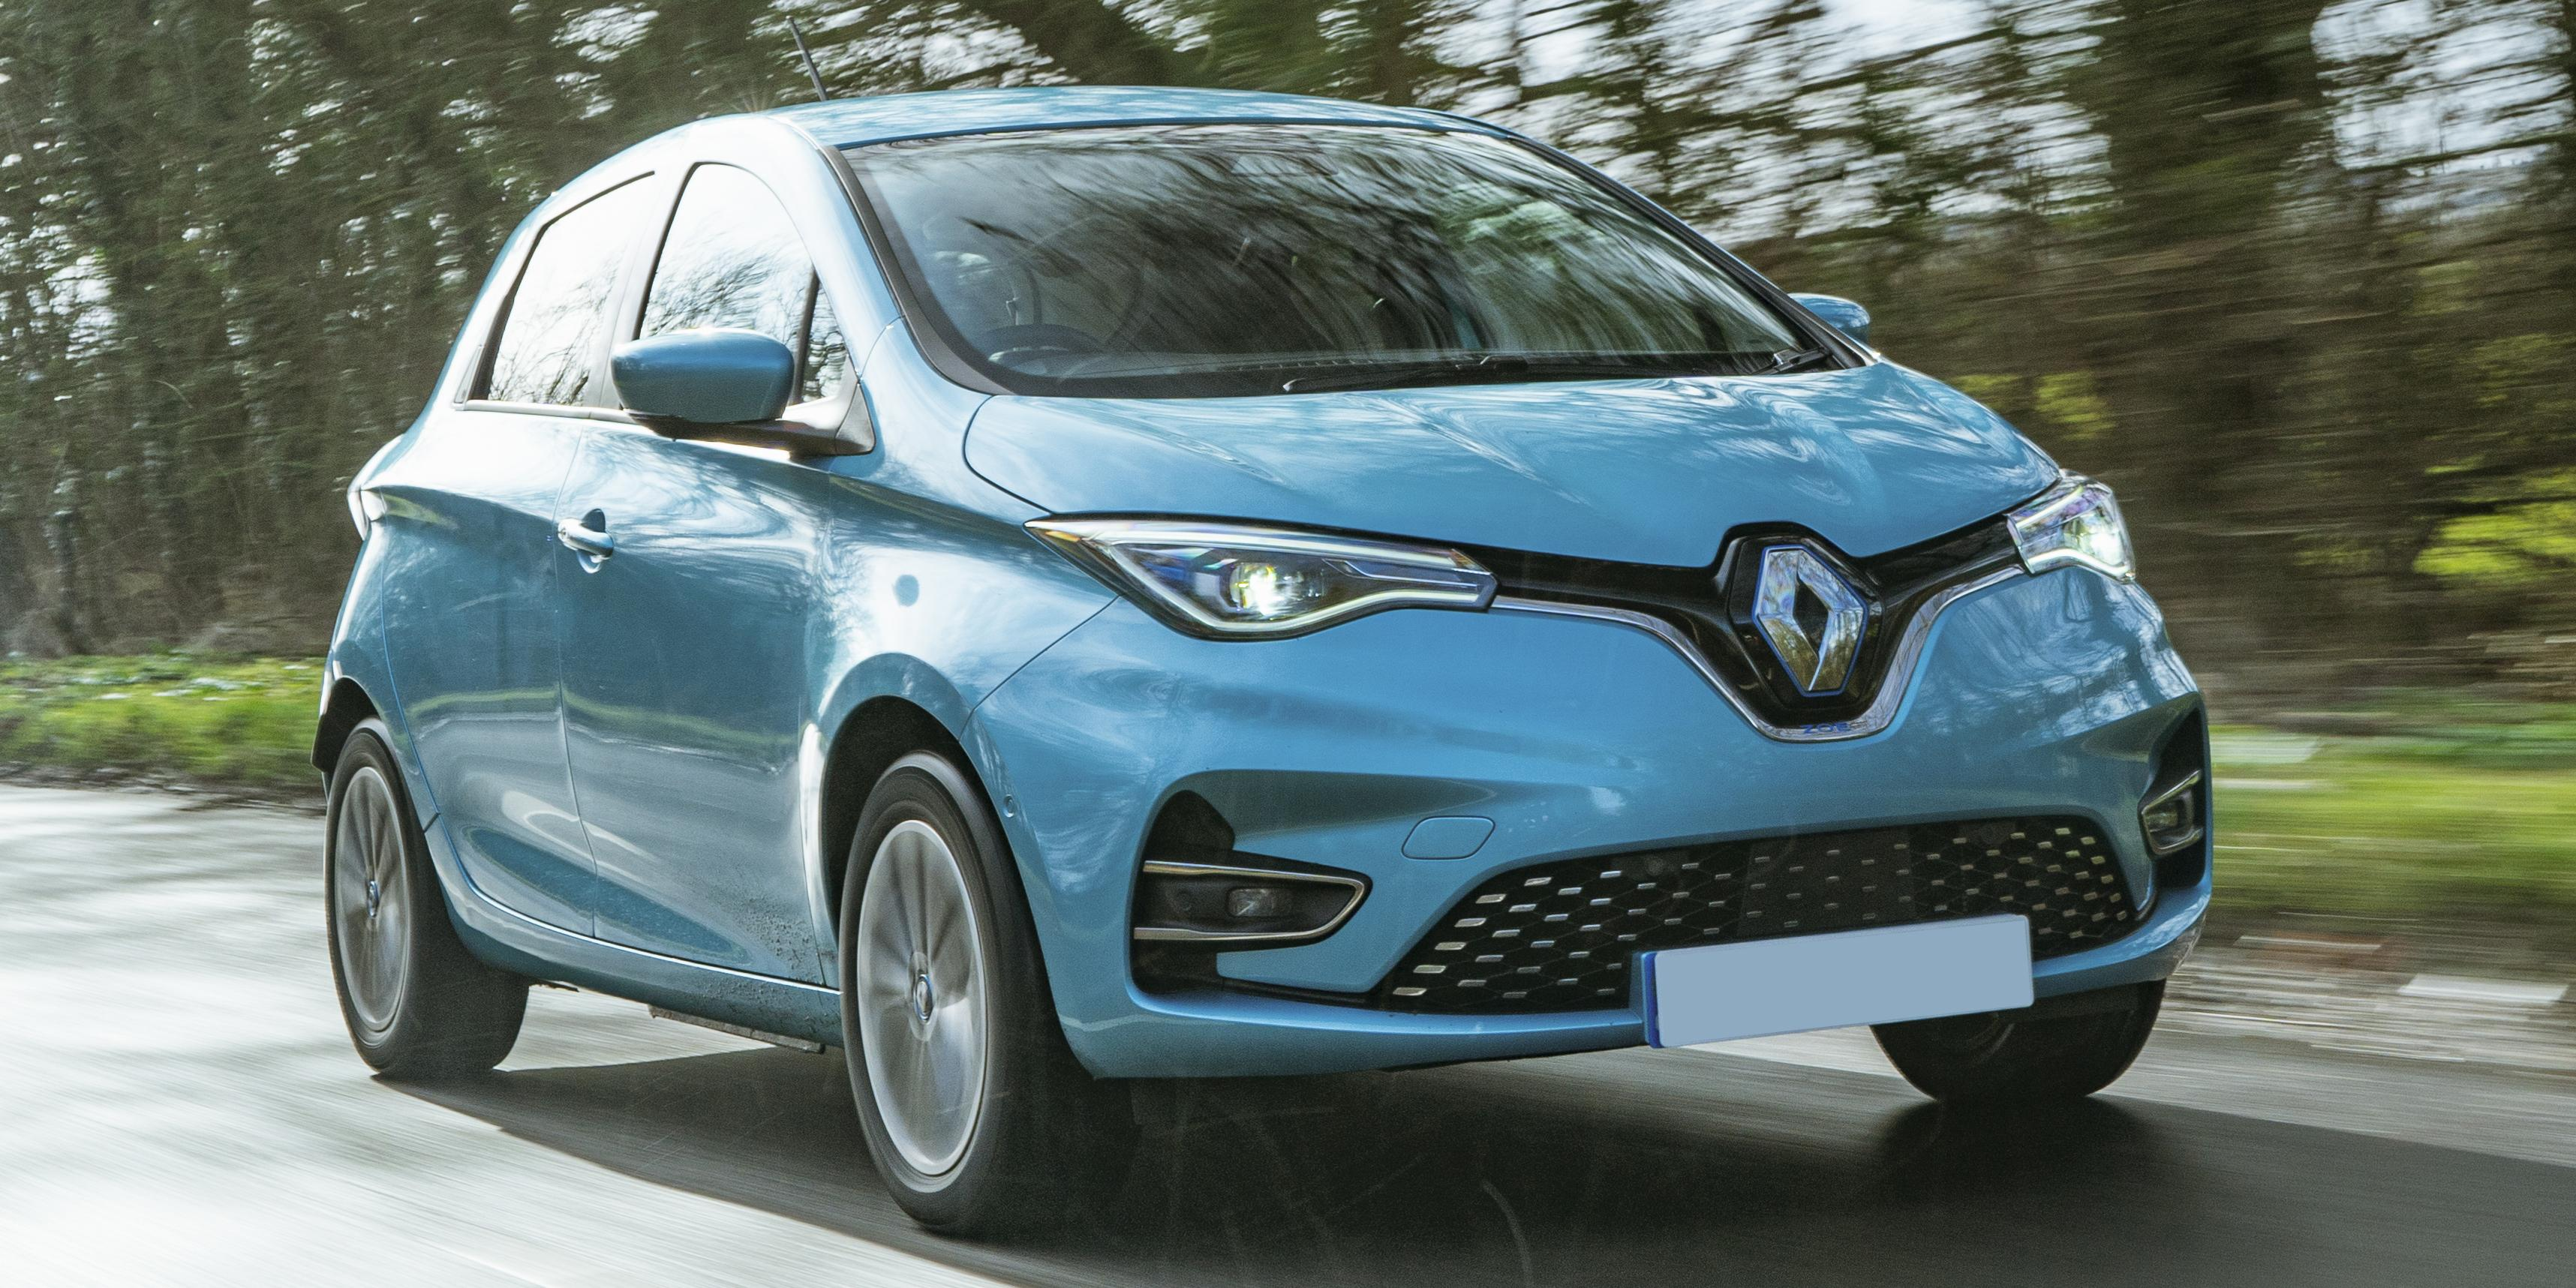Renault: (1732, 526, 1888, 718)
